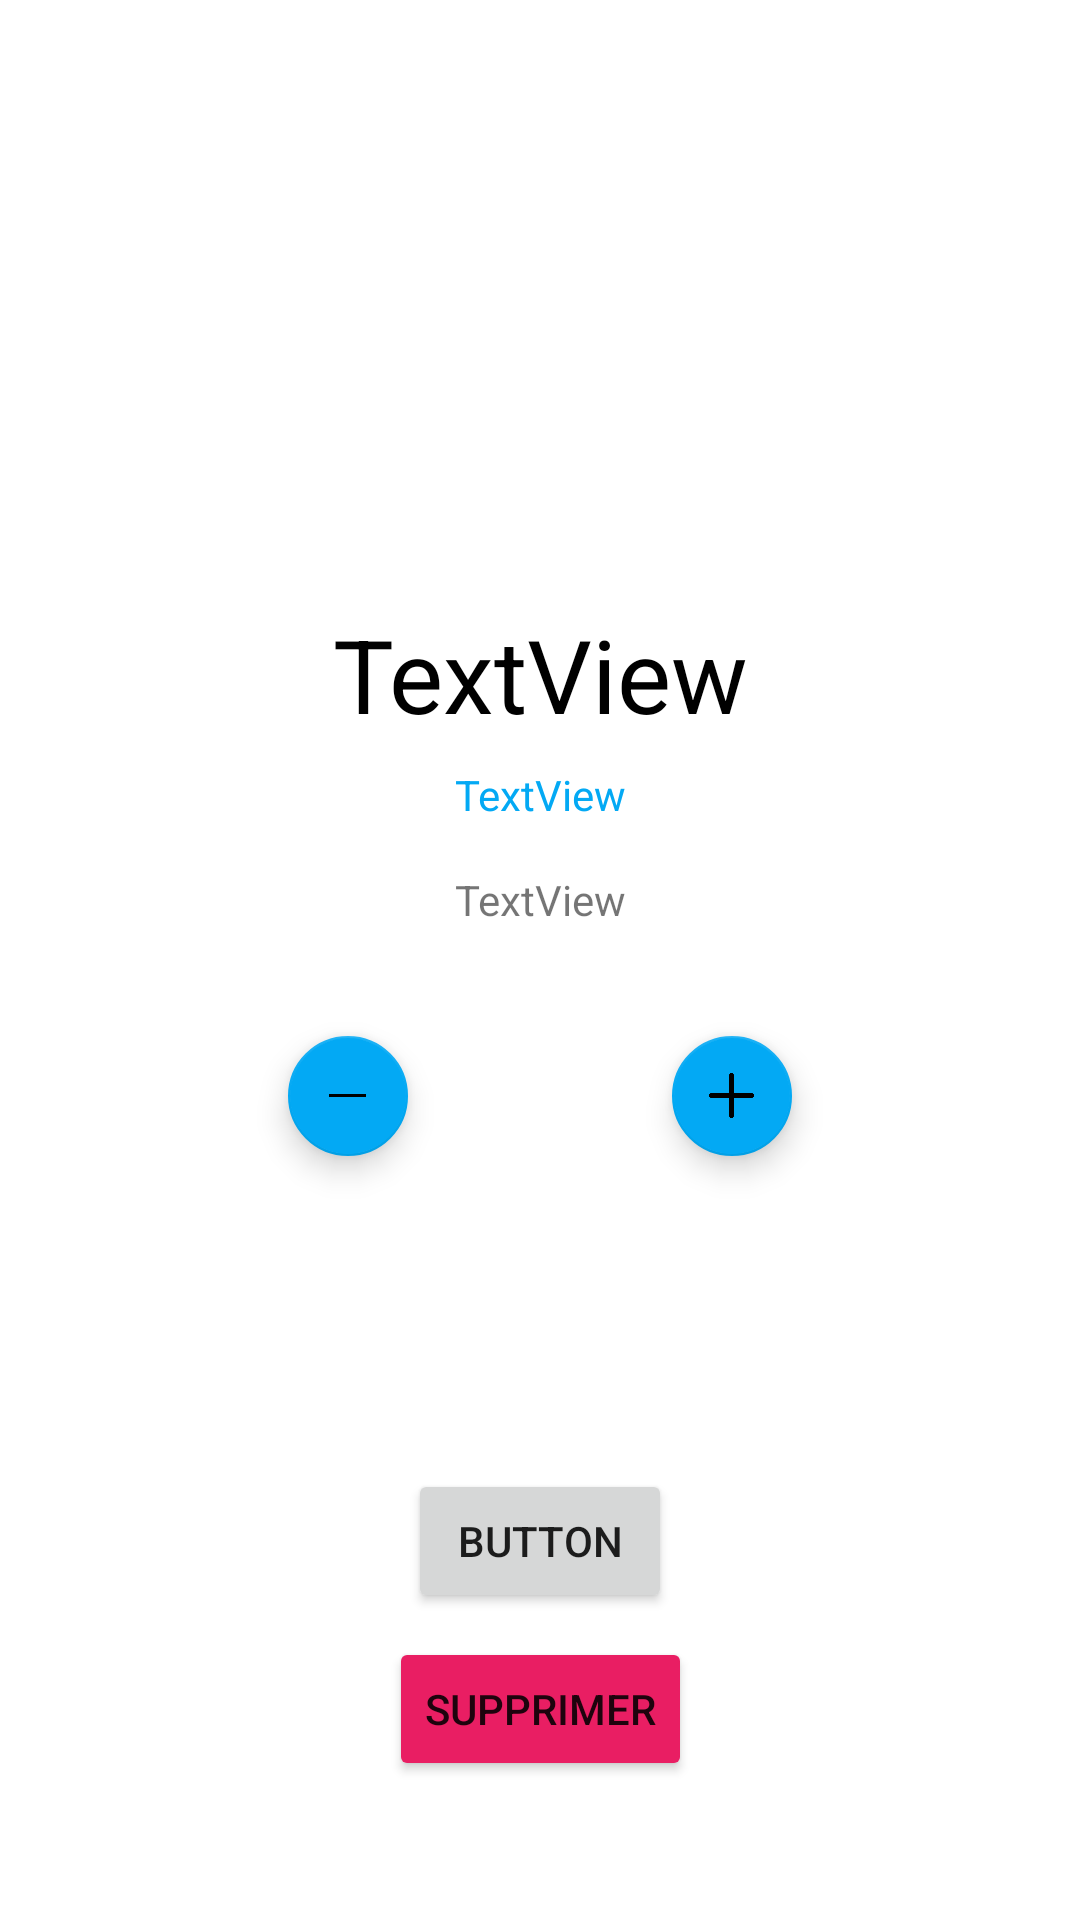

Screen size 1080px x 1920px. Icon name, then its box in pixels as bbox(x1, y1, x2, y2):
minus: bbox(287, 1036, 408, 1164)
plus: bbox(672, 1036, 793, 1164)
